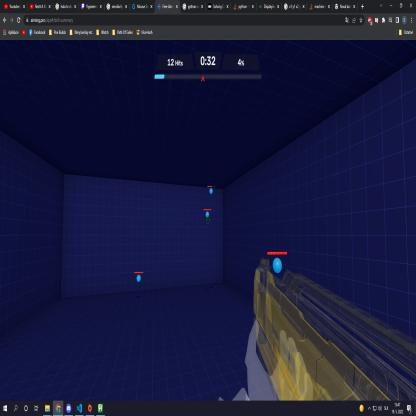sphere: (272, 257, 282, 273), (136, 274, 141, 284), (206, 212, 210, 219), (210, 188, 213, 194)
